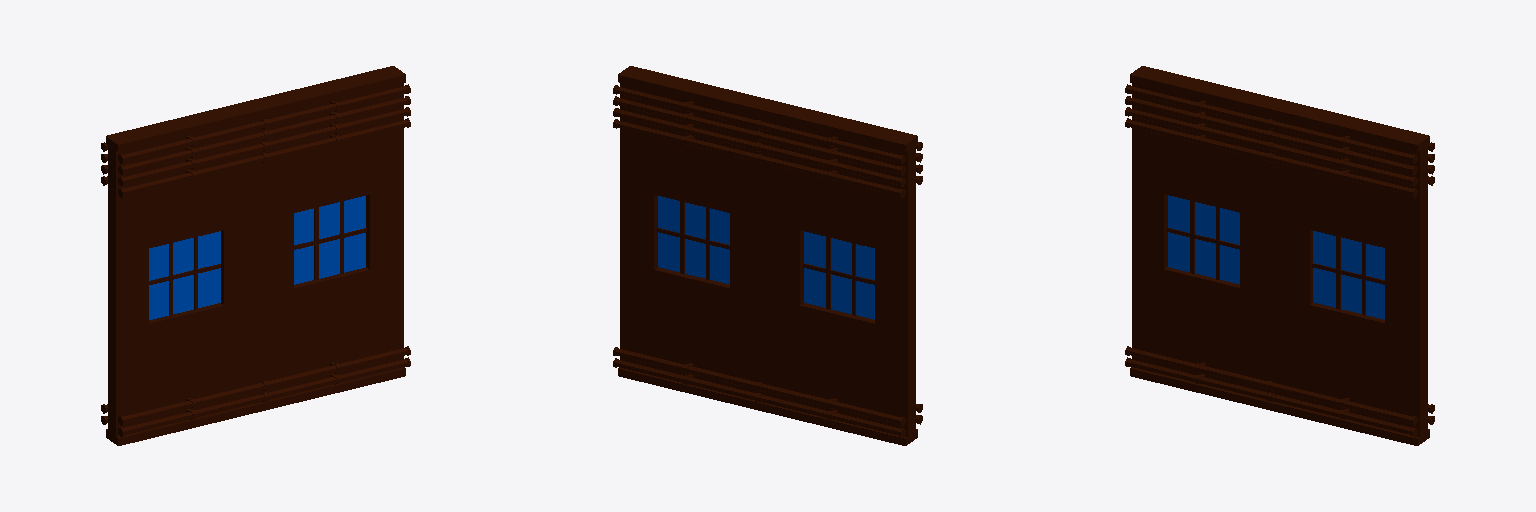
File: 8x8_wall_2_window_pipe.obj
The picture shows the model from 3 angles: view 1: azimuth 30°, elevation 25°; view 2: azimuth 150°, elevation 25°; view 3: azimuth 330°, elevation 25°; orthographic projection.
Visible parts, largest first — view 1: wall, pipe; view 2: wall, pipe; view 3: wall, pipe.
Boxes of the visible parts, x1,y1,x2,y2 form: wall: [106, 66, 405, 445]; pipe: [101, 84, 410, 436]; wall: [618, 66, 917, 445]; pipe: [613, 85, 922, 437]; wall: [1130, 66, 1429, 445]; pipe: [1125, 84, 1434, 436].
Size of the model in its own units: 8 by 8 by 1.05.